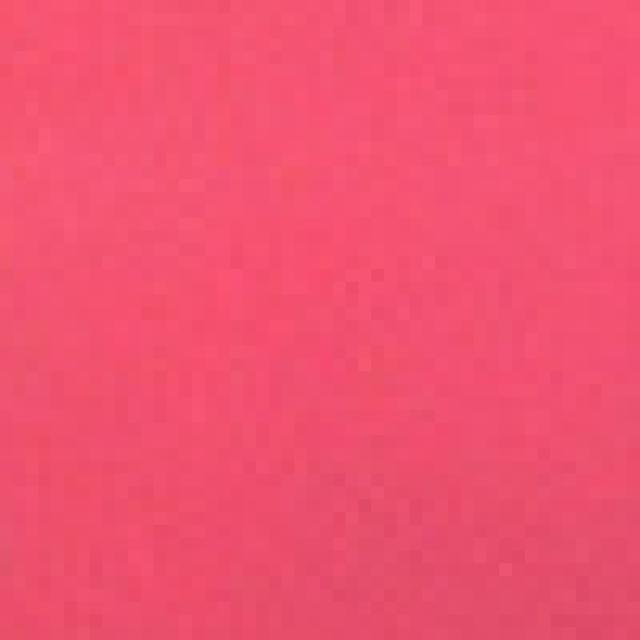no_fire: (8, 26, 626, 581)
